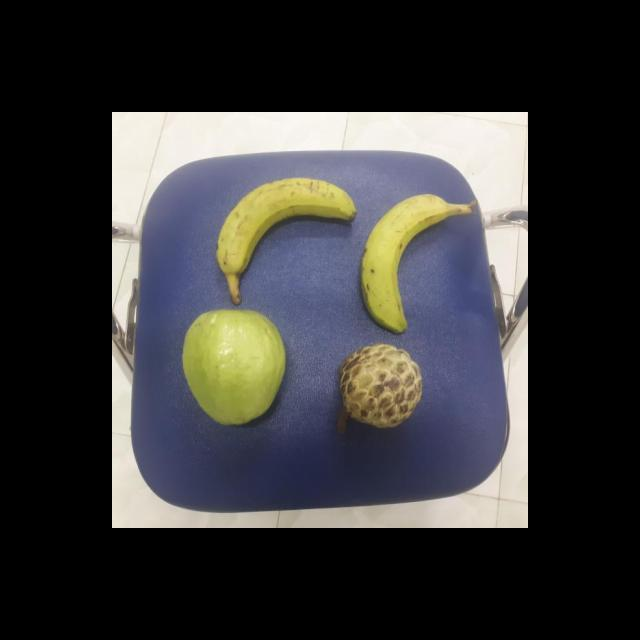Sakya fruit: (340, 339, 424, 428)
banana: (358, 188, 457, 336), (214, 178, 360, 278)
guava: (180, 306, 288, 428)
